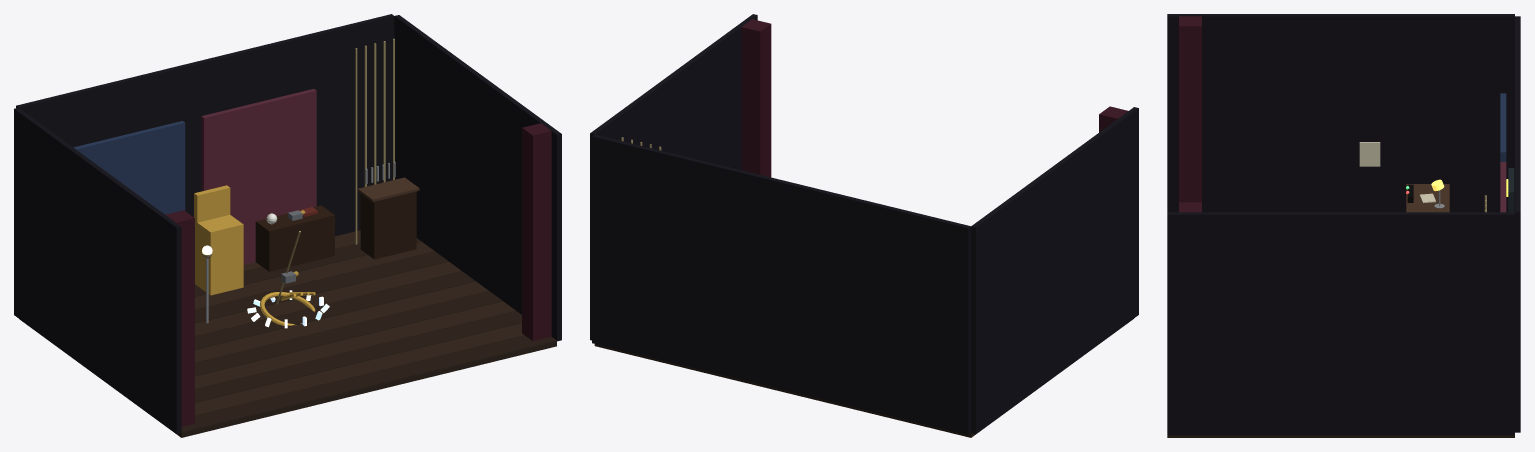
The model's file is cc_stage.glb.
3 views of the same model, side by side, from view 1: azimuth 30°, elevation 25°; view 2: azimuth 150°, elevation 25°; view 3: azimuth 270°, elevation 25° (orthographic). The views are drawn at different scales.
Parts seen in each view (by area): view 1: WallLeft, WallBack, WallRight, Flat2, ProsR, Flat1, Plank0, Plank1, Plank2, Plank3, Plank4, Plank5 (+13 smaller); view 2: WallBack, WallLeft, WallRight, ProsR, Floor; view 3: WallRight, WallLeft, ProsL, WallBack, Floor, PromptTop, P_h_cue_memo, Flat1, Flat2.
Boxes of the visible parts, x1,y1,x2,y2 form: WallLeft: (14,107,181,433); WallBack: (16,14,394,236); WallRight: (394,15,561,341); Flat2: (201,89,316,264); ProsR: (522,123,551,341); Flat1: (73,121,185,214); Plank0: (181,335,556,432); Plank1: (195,323,524,415); Plank2: (195,311,521,402); Plank3: (195,301,515,389); Plank4: (195,291,502,376); Plank5: (195,281,488,362); WallBack: (592,134,971,434); WallLeft: (971,107,1138,433); WallRight: (590,14,757,340); ProsR: (741,19,771,177); Floor: (594,319,1133,437); WallRight: (1167,212,1514,435); WallLeft: (1167,14,1514,212); ProsL: (1179,16,1201,202); WallBack: (1515,16,1520,432); Floor: (1167,435,1514,437); PromptTop: (1406,184,1449,212); P_h_cue_memo: (1359,142,1380,166); Flat1: (1500,93,1506,161); Flat2: (1500,162,1506,212).
Size of the model in its own units: 8.2 by 4.31 by 6.1.
